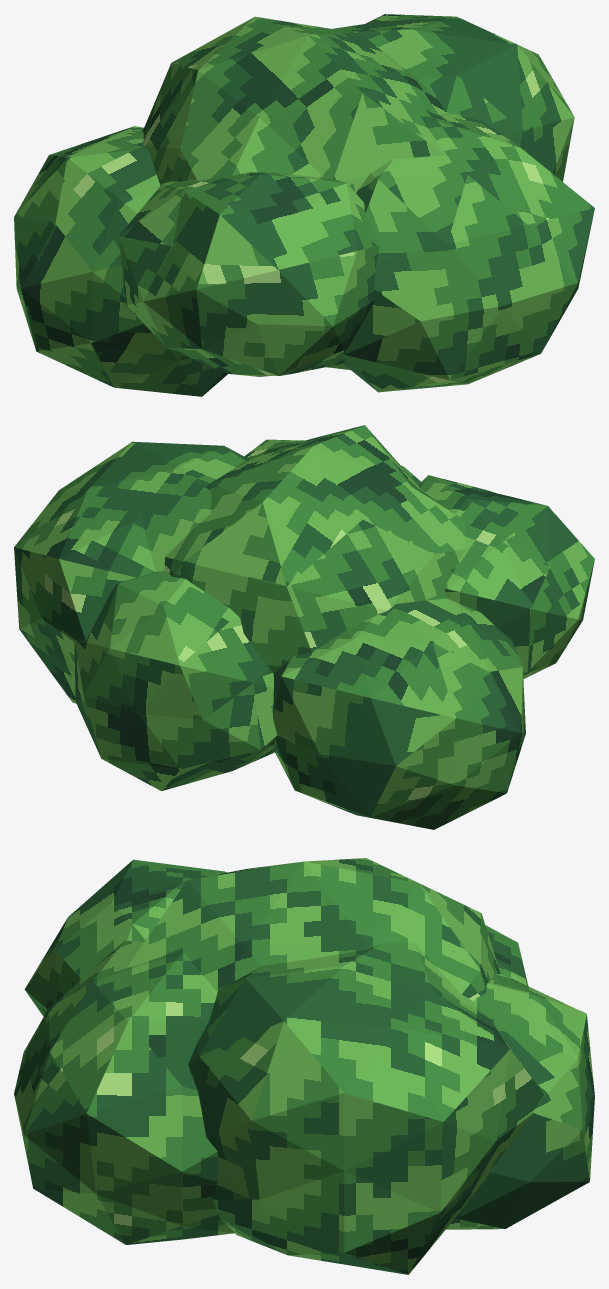
The model's file is bush.glb.
3 renders of one model, top to bottom at view 1: azimuth 30°, elevation 25°; view 2: azimuth 150°, elevation 25°; view 3: azimuth 270°, elevation 25°, orthographic. The views are drawn at different scales.
Visible parts, largest first — view 1: bush; view 2: bush; view 3: bush.
Part boxes in pixels (box(x1,y1,x2,y2)): bush: box(14, 14, 594, 396); bush: box(14, 425, 594, 829); bush: box(14, 858, 594, 1274).
Size of the model in its own units: 1.43 by 0.9 by 1.32.
Materials: 1 (1 with a texture image).
